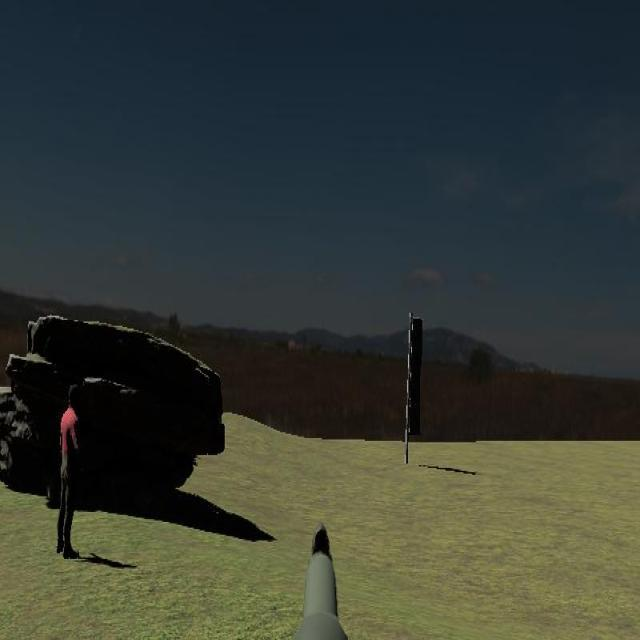Human: (57, 384, 82, 561)
